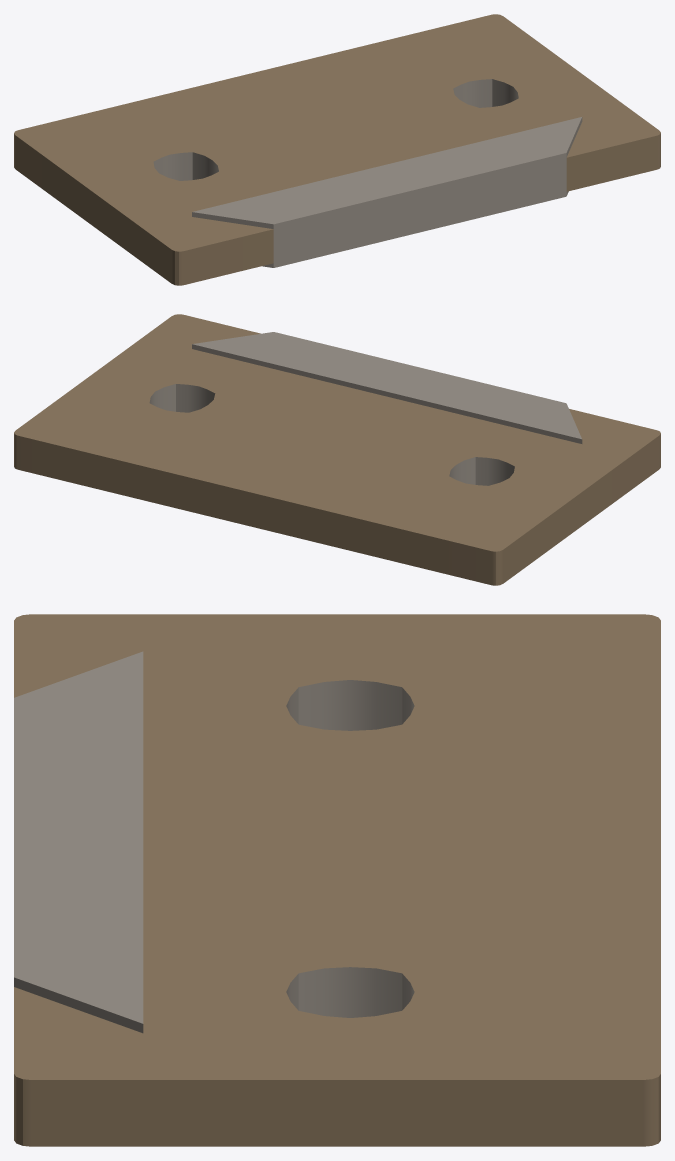
Rendered from CassetteTape.fbx.
3 renders of one model, top to bottom at view 1: azimuth 30°, elevation 25°; view 2: azimuth 150°, elevation 25°; view 3: azimuth 270°, elevation 25°, orthographic. The views are drawn at different scales.
Parts seen in each view (by area): view 1: CassetteTape; view 2: CassetteTape; view 3: CassetteTape.
Part boxes in pixels (x1,y1,x2,y2): CassetteTape: [14, 14, 660, 285]; CassetteTape: [14, 314, 660, 585]; CassetteTape: [14, 614, 660, 1146].
Bounding box in the file's own units: 2.23 × 0.1911 × 1.31.
